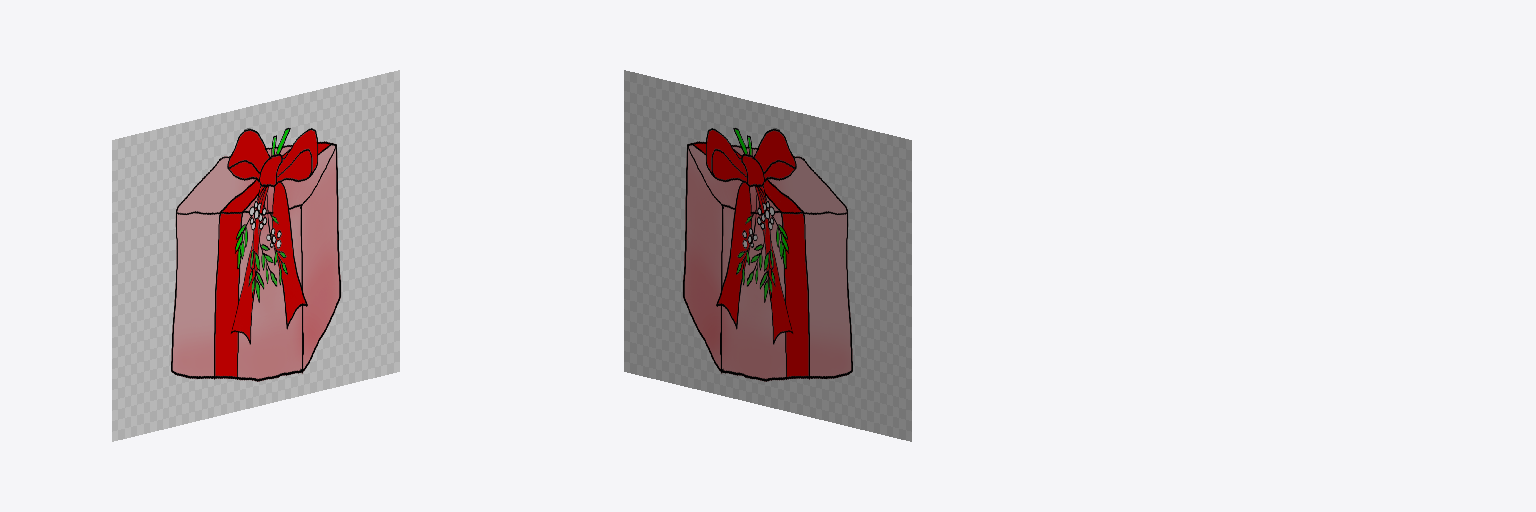
3 renders of one model, left to right at view 1: azimuth 30°, elevation 25°; view 2: azimuth 150°, elevation 25°; view 3: azimuth 270°, elevation 25°, orthographic.
Parts seen in each view (by area): view 1: Plane; view 2: Plane; view 3: none.
Part boxes in pixels (bbox=[...]): Plane: bbox=[112, 70, 399, 441]; Plane: bbox=[624, 70, 911, 441].
Bounding box in the file's own units: 2 × 2 × 0.
Materials: 1 (1 with a texture image).